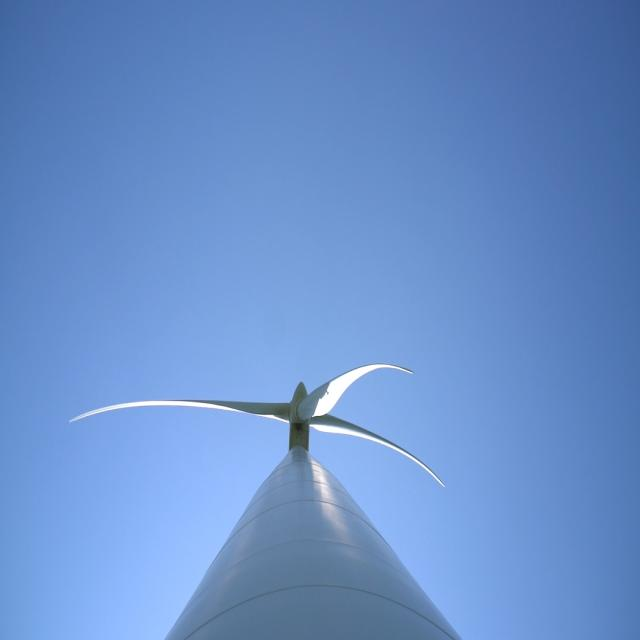blade 1: (346, 423, 437, 490)
blade 2: (68, 386, 284, 433)
blade 3: (314, 356, 424, 416)
